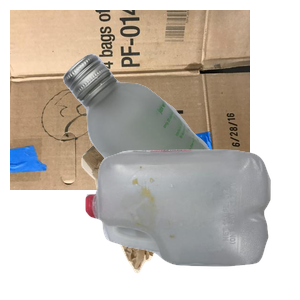cardboard: (10, 10, 250, 190)
glass: (60, 51, 300, 231)
plastic: (83, 147, 300, 300)
trash: (79, 123, 281, 300)
